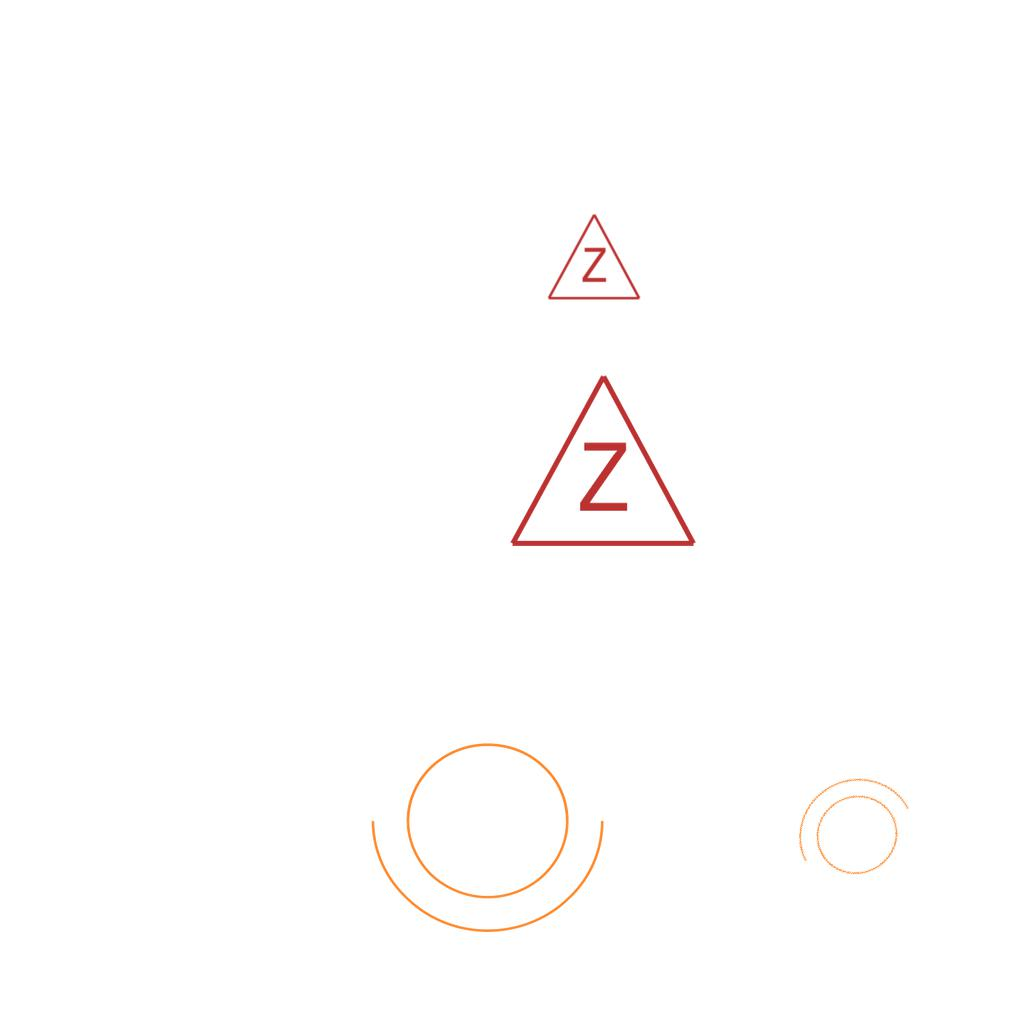Scheinwerfer_fuer_Alarmbeleuchtung: (362, 718, 626, 943), (767, 752, 937, 912)
Zimmersignalleuchte: (503, 361, 699, 561), (544, 207, 642, 307)
